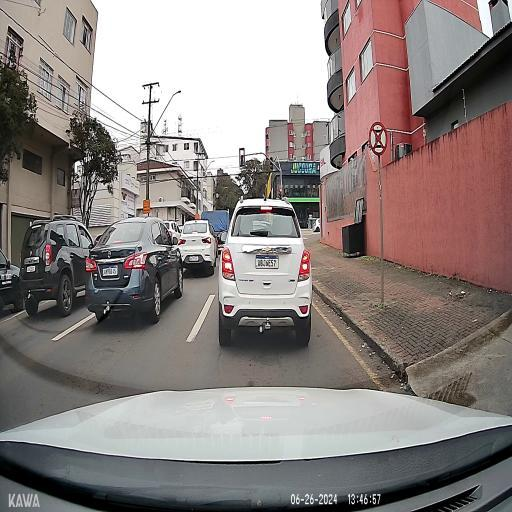R-6c: (368, 122, 388, 156)
